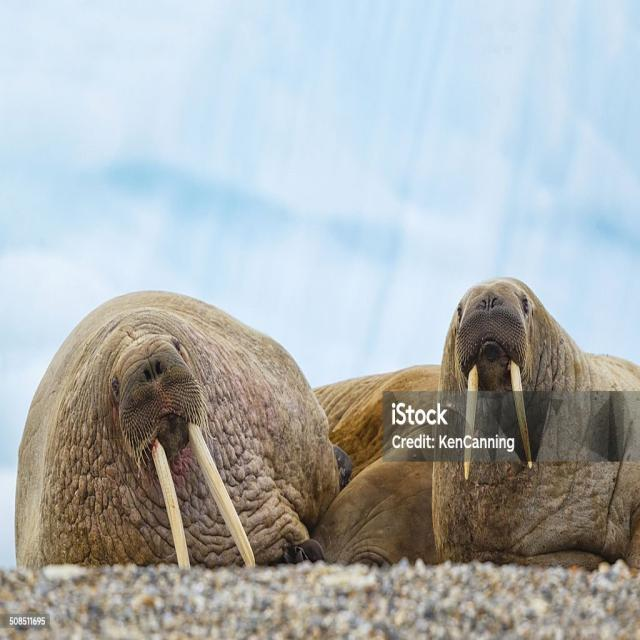walrus: (14, 286, 340, 576), (429, 265, 601, 564)
